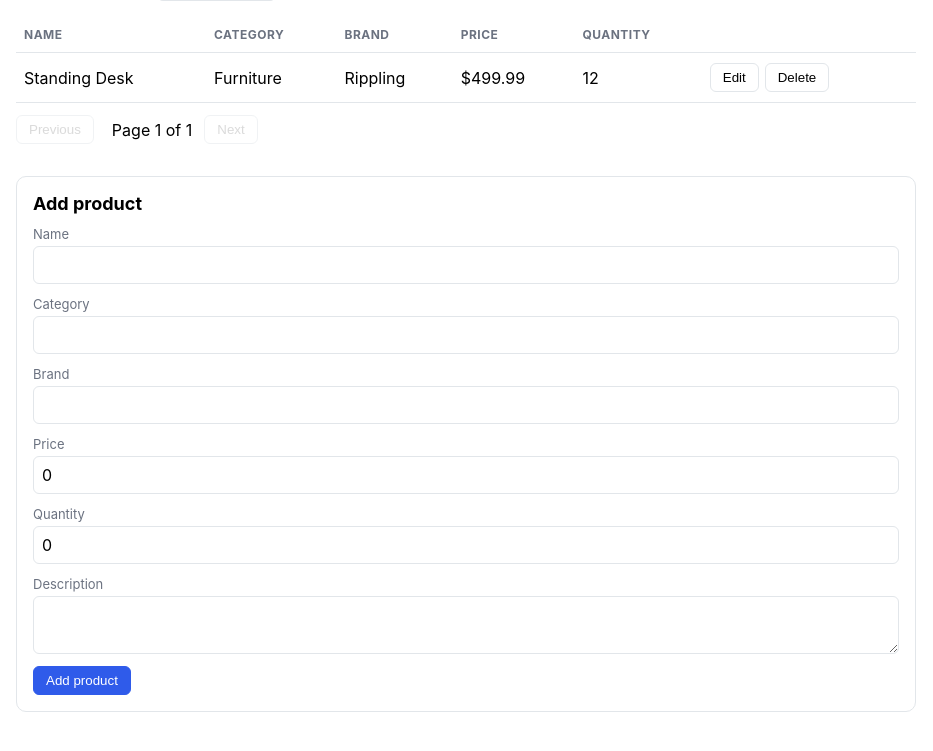
Scenario: ProductsPage › surfaces server side validation errors
The image size is (933, 751).
(page scrolled)
expect the text "Standing Desk" is shown: met, box top-left (16, 52), bottom-right (206, 102)
Click the button "Add product" at (82, 680), box top-left (33, 666), bottom-right (131, 695)
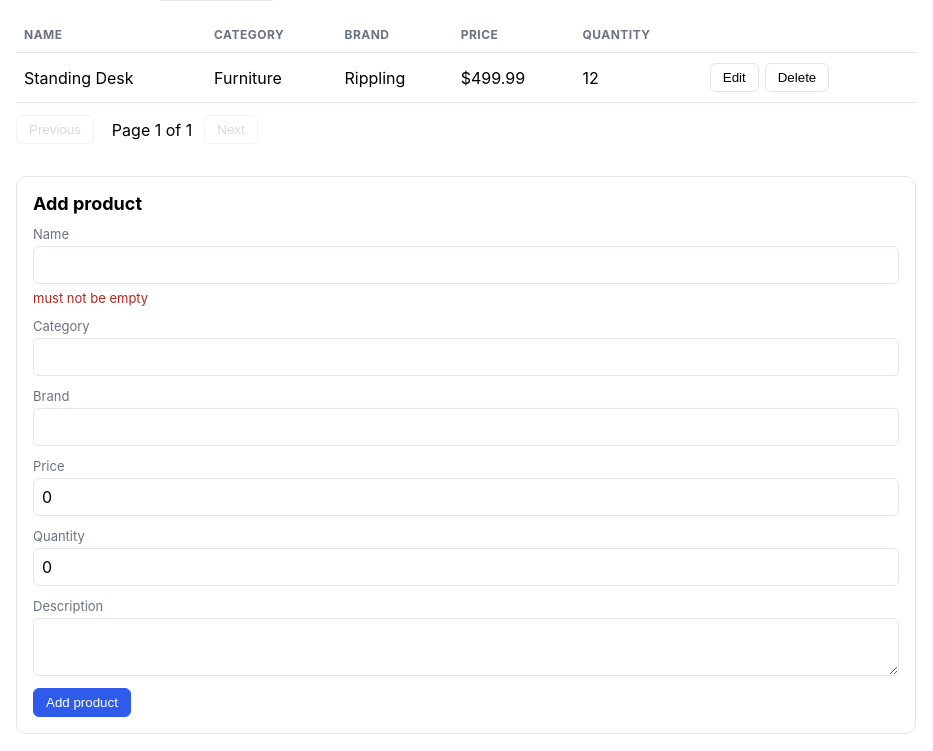
expect the text "must not be empty" is shown: met, box top-left (33, 290), bottom-right (148, 306)
